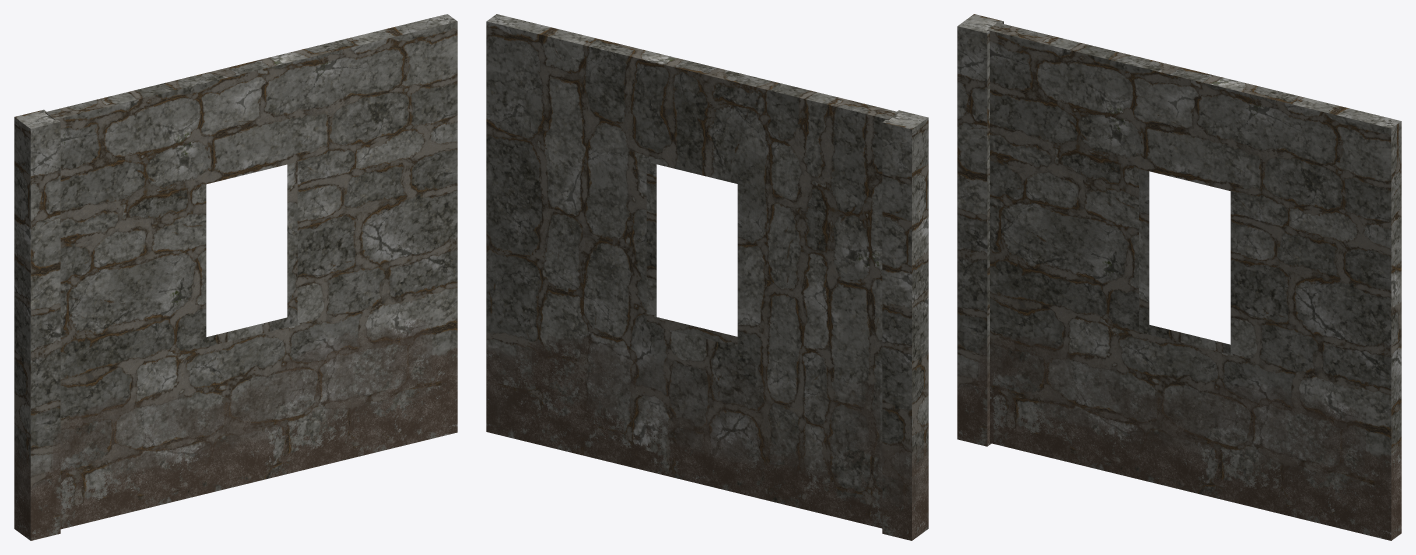
The model's file is Wooden_wall_Rock.fbx.
3 renders of one model, left to right at view 1: azimuth 30°, elevation 25°; view 2: azimuth 150°, elevation 25°; view 3: azimuth 330°, elevation 25°, orthographic.
Parts seen in each view (by area): view 1: Wooden_wall; view 2: Wooden_wall; view 3: Wooden_wall.
Part boxes in pixels (x1,y1,x2,y2): Wooden_wall: (14,14,457,540); Wooden_wall: (486,14,928,540); Wooden_wall: (957,14,1401,540).
Size of the model in its own units: 10009 by 9186 by 670.
1 material, 1 textured.
